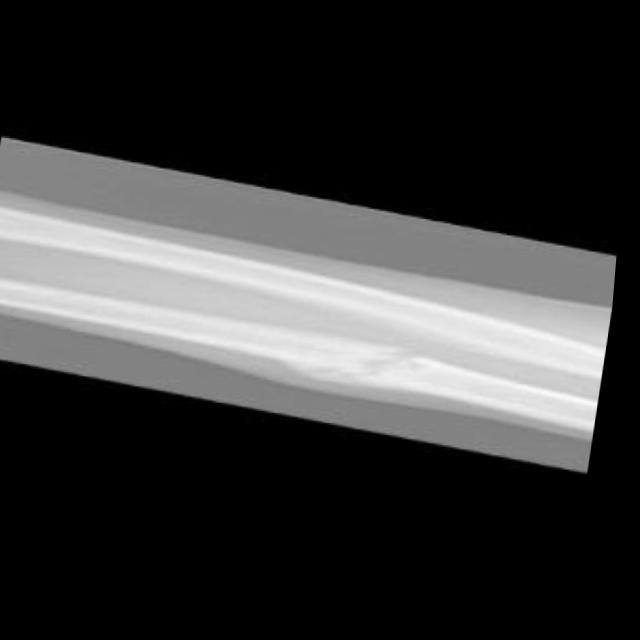fracture: (282, 336, 467, 406)
